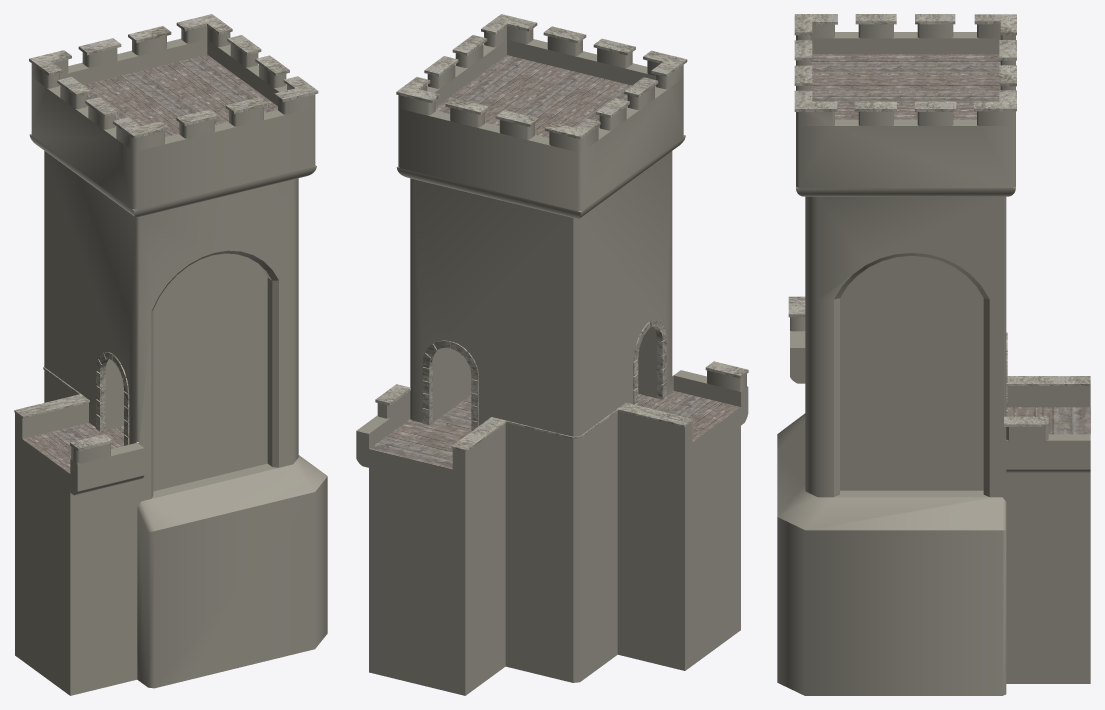
The model's file is Wall_Tower_1.fbx.
3 renders of one model, left to right at view 1: azimuth 30°, elevation 25°; view 2: azimuth 150°, elevation 25°; view 3: azimuth 270°, elevation 25°, orthographic. The views are drawn at different scales.
Parts seen in each view (by area): view 1: Model; view 2: Model; view 3: Model.
Part boxes in pixels (x1,y1,x2,y2): Model: (14, 14, 327, 695); Model: (356, 14, 748, 695); Model: (777, 14, 1090, 695).
Size of the model in its own units: 22.46 by 45.82 by 22.46.
